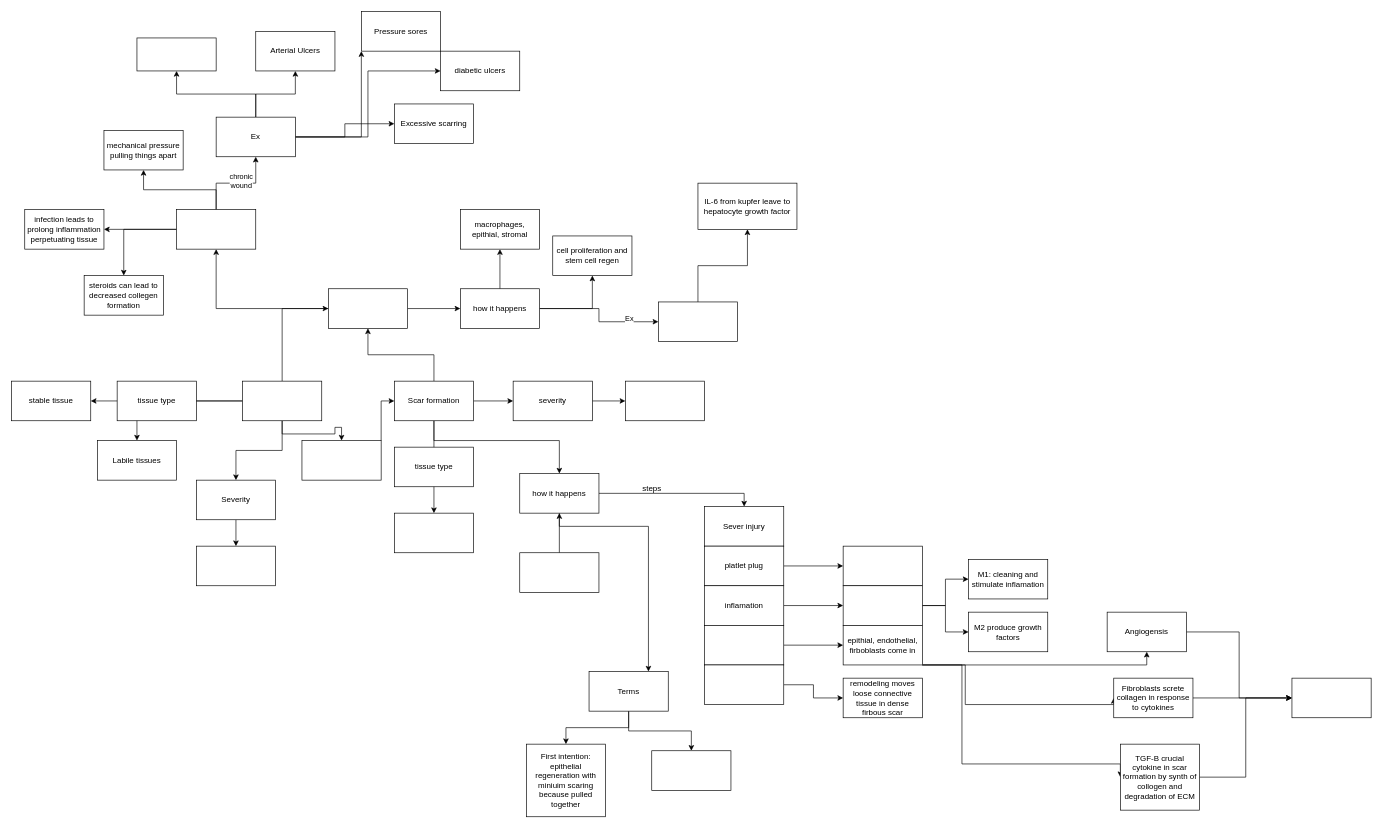
Image size: 1383x828. Some labels were removed from this diagram. The shapes that lost their labels are listed below. From the top down, each one's centre as x and y in pixels, then its label:
At (x=176, y=54): "venous leg ulcers".
At (x=216, y=229): "complications".
At (x=368, y=308): "Tissue repair".
At (x=698, y=321): "Liver".
At (x=282, y=400): "Regeneration".
At (x=665, y=400): "deep".
At (x=341, y=460): "if tissue is widely impacted then scar may form".
At (x=434, y=532): "Permanent tissue".
At (x=236, y=565): "Mild or superficial".
At (x=559, y=572): "Uses basement membrane and interstitial matrix".
At (x=882, y=565): "early formation creates scaffold".
At (x=882, y=605): "macrophage mediation cleaning and growth factor creation".
At (x=744, y=645): "cell proliferation".
At (x=744, y=684): "Remodiling".
At (x=1331, y=697): "granulation tissue".
At (x=691, y=770): "Second intention tissue not able to be pulled together".
